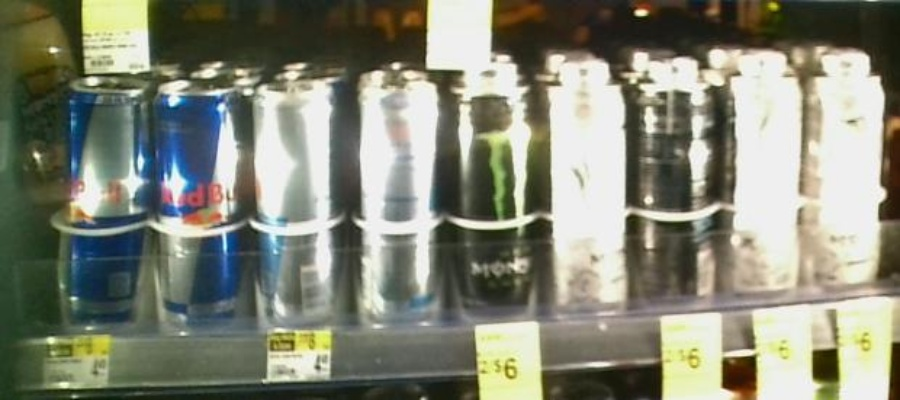bottle: (254, 71, 351, 340), (54, 70, 148, 339), (640, 44, 724, 339), (449, 73, 541, 340), (157, 70, 247, 339), (549, 57, 634, 339), (359, 63, 441, 342), (810, 26, 890, 303), (730, 42, 803, 310)
